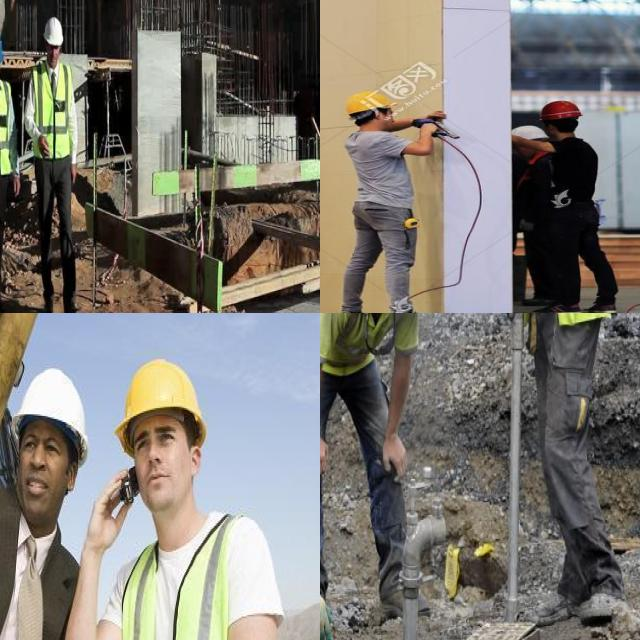No_Ear-Protection: (333, 83, 415, 148), (187, 442, 204, 484), (64, 455, 78, 496)
No_Glasses: (17, 427, 65, 468), (127, 424, 183, 457)
face_nomask: (127, 418, 194, 512), (21, 426, 66, 530), (45, 42, 62, 68)
hand_glove: (320, 582, 336, 640), (497, 313, 542, 326)
hand_noglove: (88, 466, 130, 556), (382, 423, 413, 484), (35, 131, 51, 164), (320, 432, 331, 478), (70, 163, 78, 187), (14, 174, 22, 197)
head_helmet: (111, 359, 212, 454), (16, 367, 88, 465), (43, 15, 65, 46)
person: (105, 359, 294, 640), (492, 313, 632, 627), (320, 313, 424, 615), (0, 351, 72, 640), (31, 15, 75, 313), (0, 30, 13, 313)
shoes: (530, 586, 580, 632), (576, 586, 624, 628), (380, 579, 430, 619)
vest: (127, 546, 296, 640), (29, 62, 76, 162), (320, 313, 393, 374), (0, 83, 13, 173)
